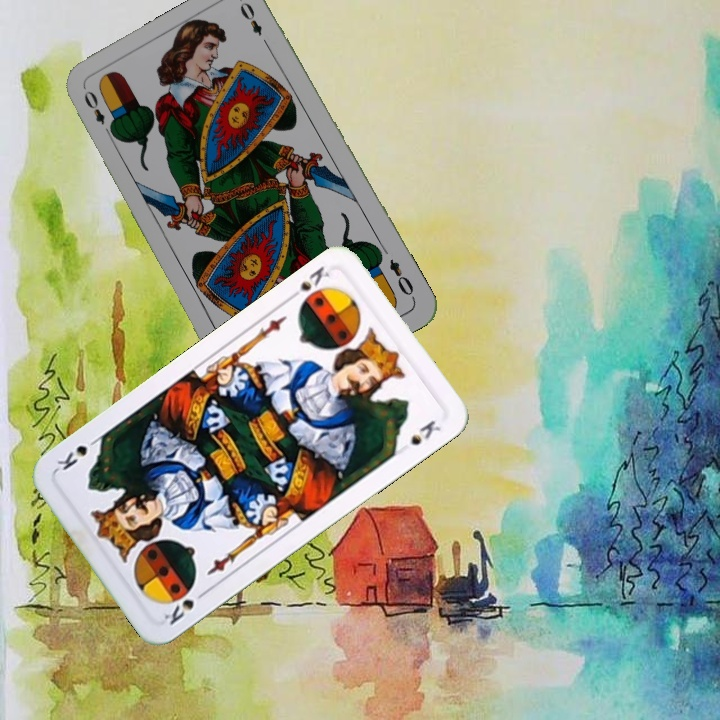EO: (80, 86, 116, 140), (385, 255, 418, 302)
SK: (159, 586, 211, 628), (284, 261, 332, 304)
